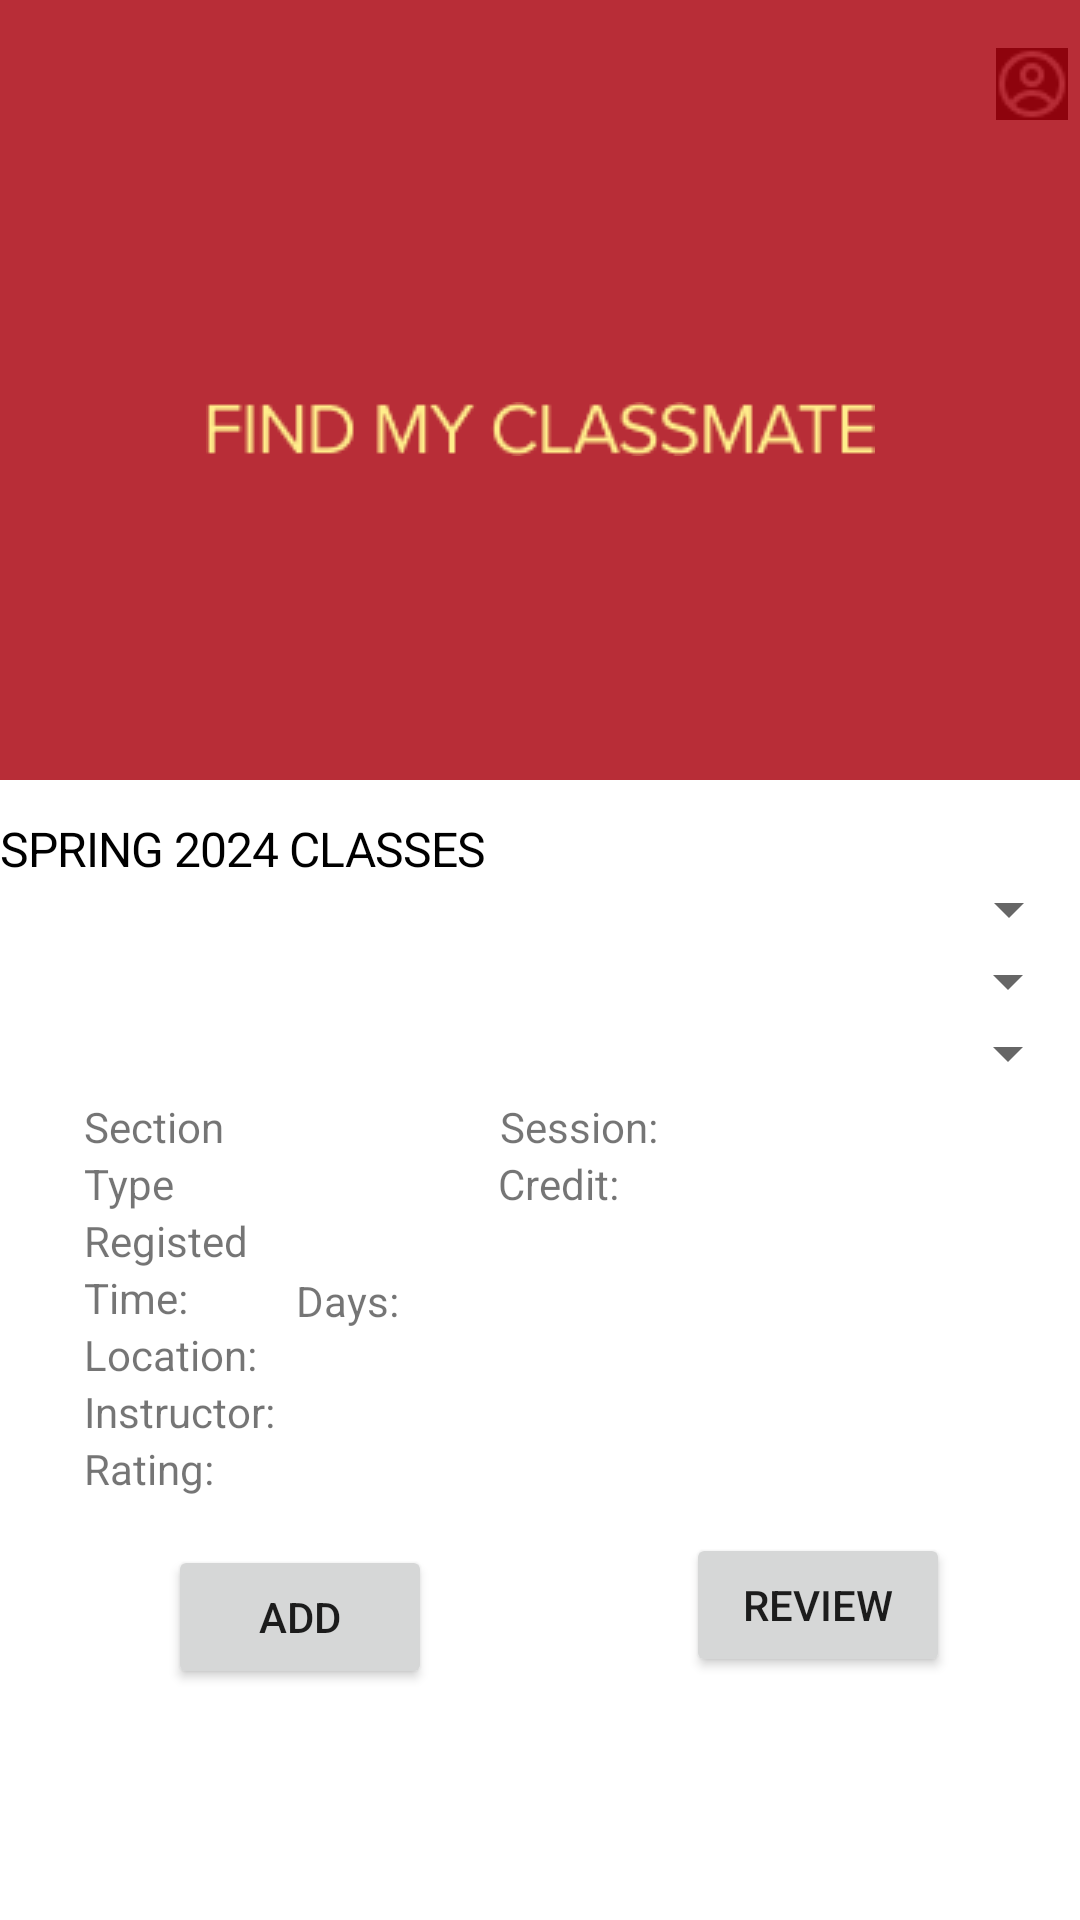

Where icons sit on this 1080×1920 app screen, as Rect(x1, y1, x2, y2):
ggprofile: Rect(996, 48, 1068, 120)
